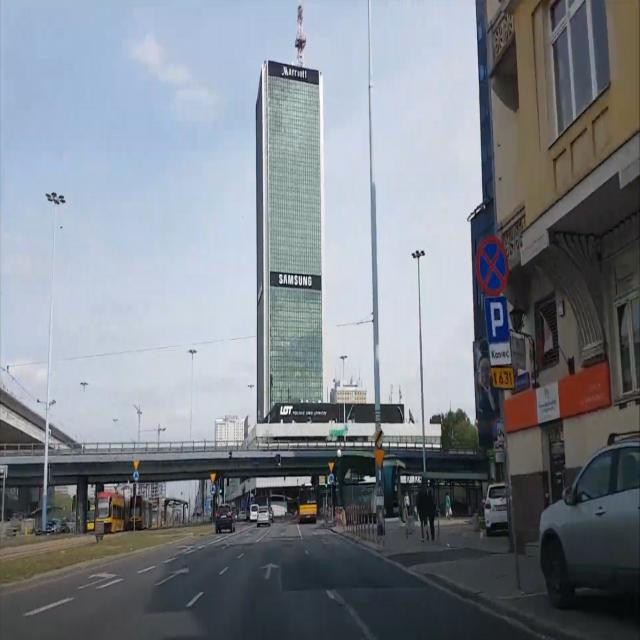Ustap pierwszenstwa: (373, 448, 384, 468), (132, 460, 140, 470), (211, 472, 216, 483), (329, 462, 334, 472)
Zakaz zatrzymywania sie: (474, 237, 509, 295)
